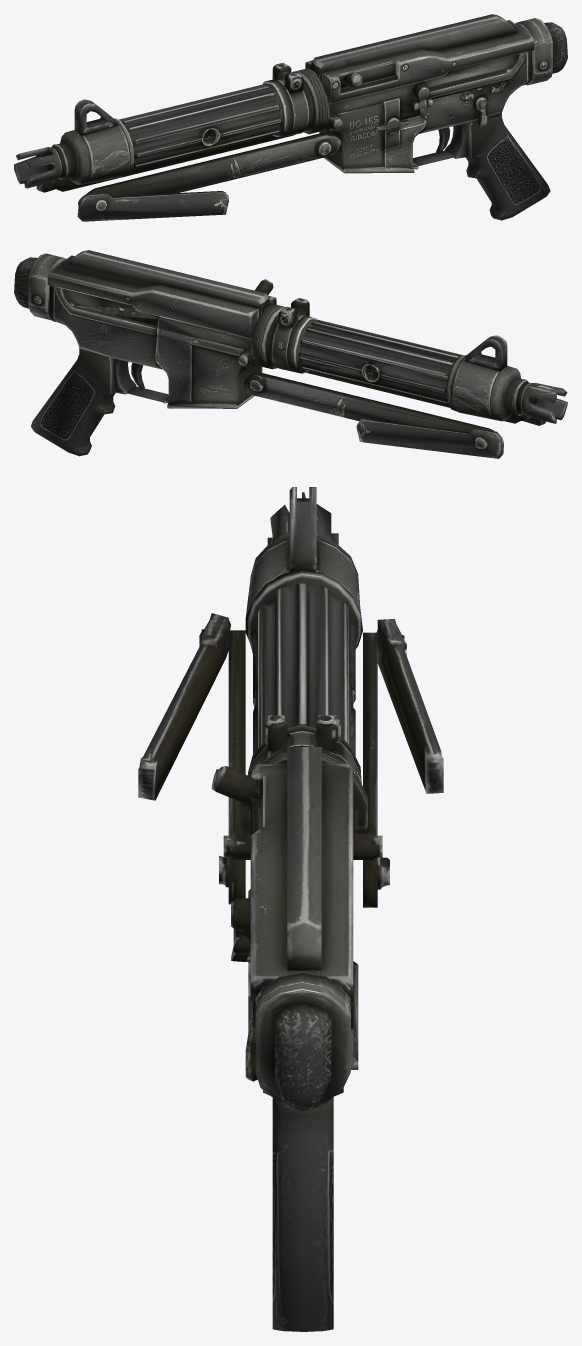
3 renders of one model, top to bottom at view 1: azimuth 30°, elevation 25°; view 2: azimuth 150°, elevation 25°; view 3: azimuth 270°, elevation 25°, orthographic. The views are drawn at different scales.
Visible parts, largest first — view 1: tripo_node_7d9a1021-adf1-4563-ad7e-9b28f1f204a3; view 2: tripo_node_7d9a1021-adf1-4563-ad7e-9b28f1f204a3; view 3: tripo_node_7d9a1021-adf1-4563-ad7e-9b28f1f204a3.
Boxes of the visible parts, x1=… form: tripo_node_7d9a1021-adf1-4563-ad7e-9b28f1f204a3: x1=14, y1=14, x2=567, y2=221; tripo_node_7d9a1021-adf1-4563-ad7e-9b28f1f204a3: x1=14, y1=250, x2=567, y2=458; tripo_node_7d9a1021-adf1-4563-ad7e-9b28f1f204a3: x1=138, y1=487, x2=443, y2=1331.
Size of the model in its own units: 0.998 by 0.3809 by 0.2441.
Materials: 1 (1 with a texture image).
